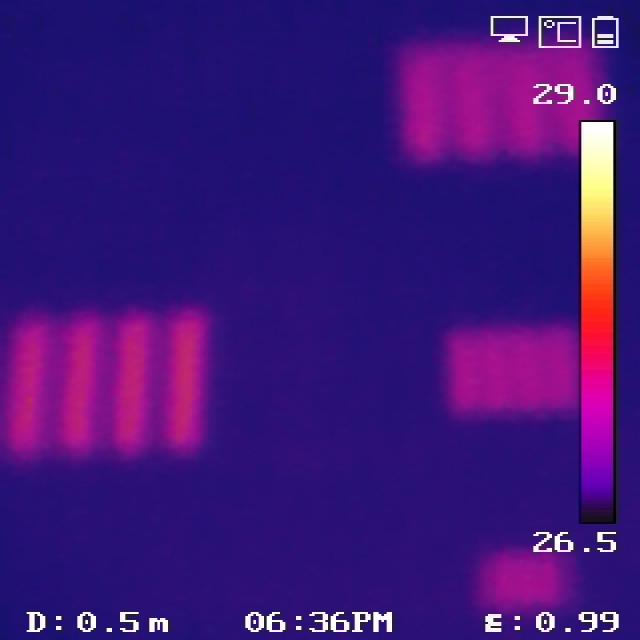Distinguishable 4-bar target: (11, 310, 216, 456)
Indistinguishable 4-bar target: (475, 554, 568, 611)
threshold 4-bar target: (402, 50, 598, 156), (449, 331, 575, 407)
